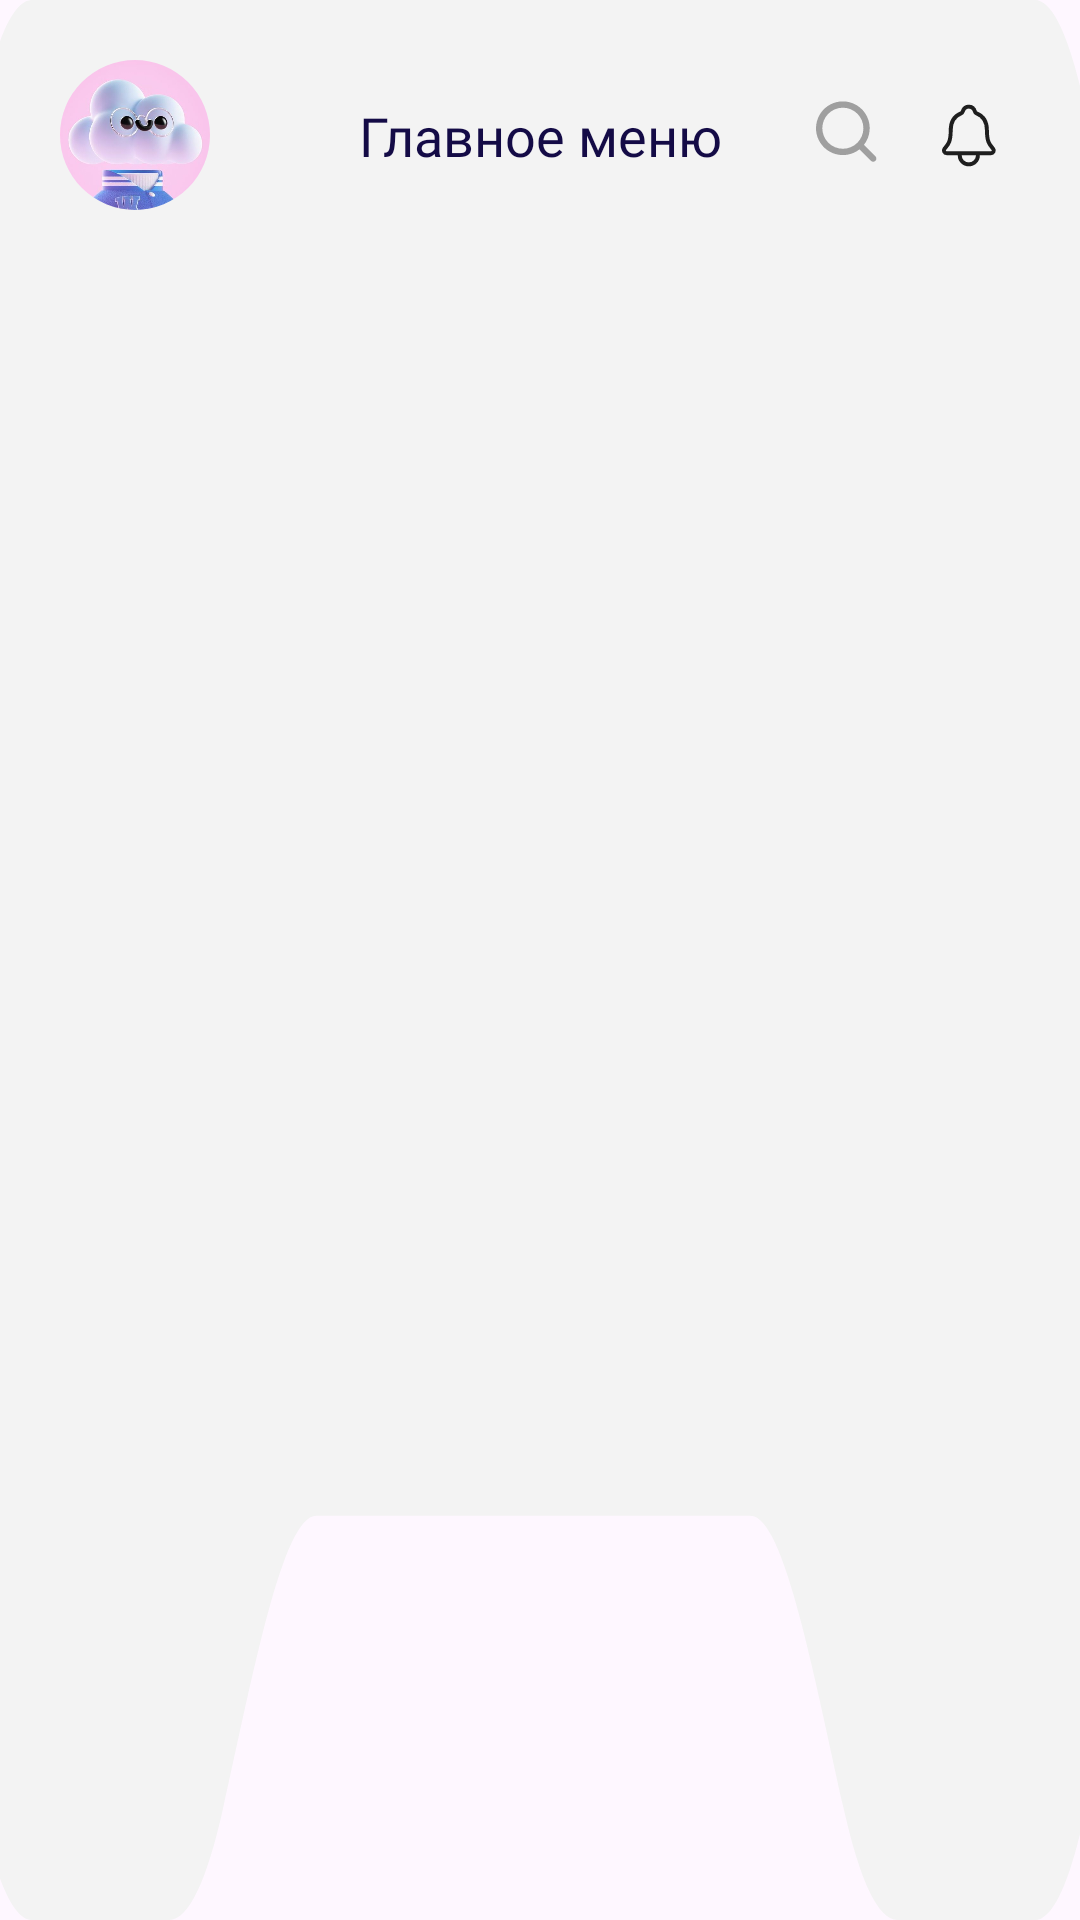

Screen size 1080*1920. Icon name, then its center in pixels as (x,y):
top bar notifications: (969,135)
top bar search: (846,131)
